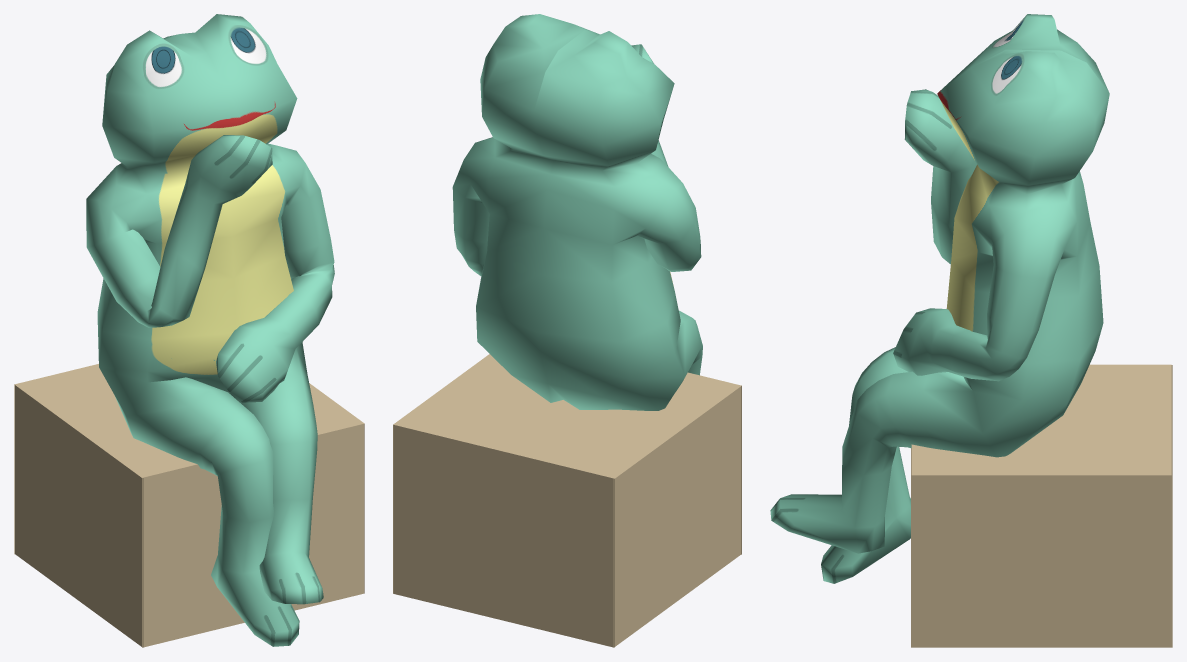
Rendered from MulherSapo.fbx.
3 renders of one model, left to right at view 1: azimuth 30°, elevation 25°; view 2: azimuth 150°, elevation 25°; view 3: azimuth 270°, elevation 25°, orthographic. The views are drawn at different scales.
Parts seen in each view (by area): view 1: Mulher_Sapo; view 2: Mulher_Sapo; view 3: Mulher_Sapo.
Part boxes in pixels (<box>): Mulher_Sapo: <box>14,14,364,647</box>; Mulher_Sapo: <box>393,14,741,647</box>; Mulher_Sapo: <box>770,14,1172,647</box>.
Size of the model in its own units: 51.46 by 115 by 74.74.
1 material, 1 textured.
